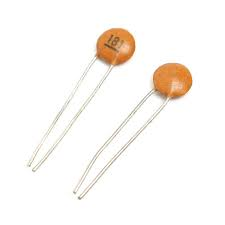ceramic capacitor: (140, 55, 217, 137), (73, 21, 143, 87)
